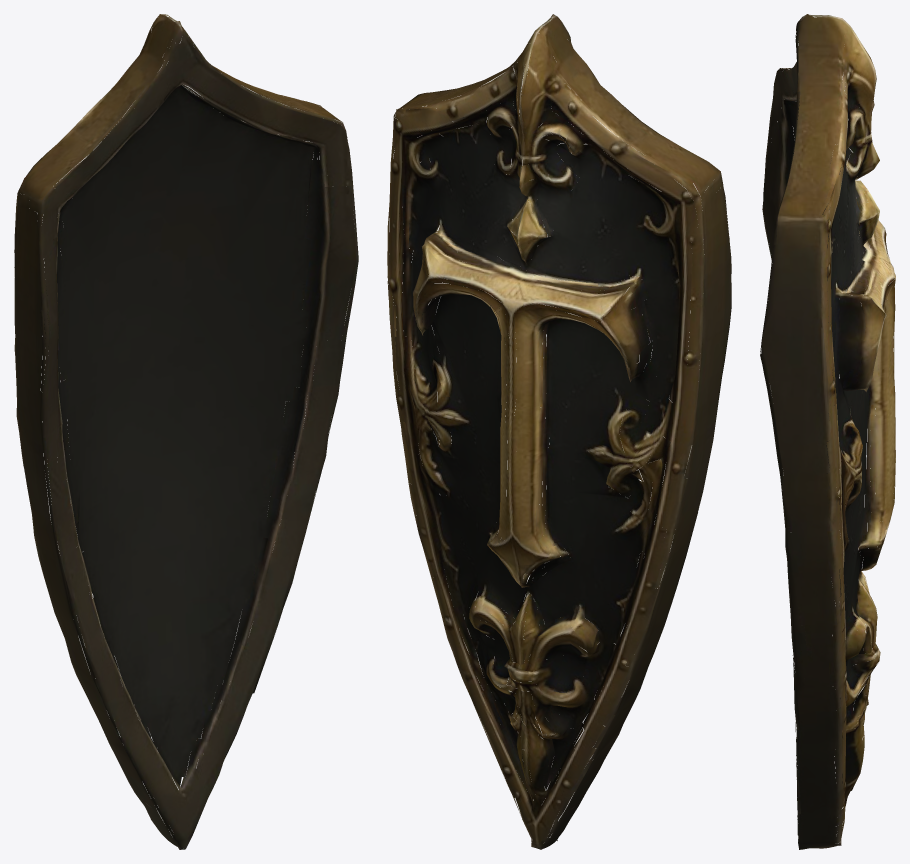
Rendered from kite_t_black.glb.
3 renders of one model, left to right at view 1: azimuth 30°, elevation 25°; view 2: azimuth 150°, elevation 25°; view 3: azimuth 270°, elevation 25°, orthographic.
Parts seen in each view (by area): view 1: kite_t_black; view 2: kite_t_black; view 3: kite_t_black.
Part boxes in pixels (left/top/right/bottom): kite_t_black: left=14, top=14, right=358, bottom=849; kite_t_black: left=387, top=14, right=731, bottom=849; kite_t_black: left=760, top=14, right=895, bottom=849.
Size of the model in its own units: 0.3629 by 0.9094 by 0.1341.
Materials: 1 (1 with a texture image).
